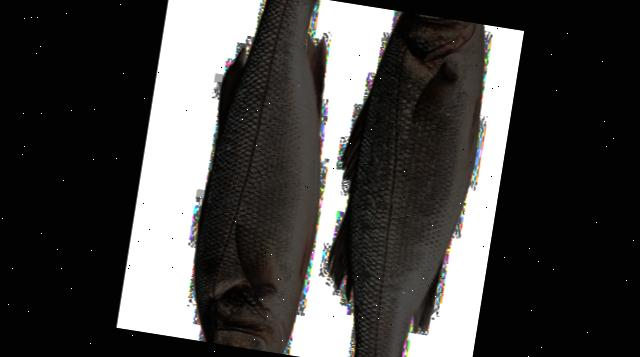Healthy Fish: (342, 11, 487, 357), (195, 0, 326, 354)
